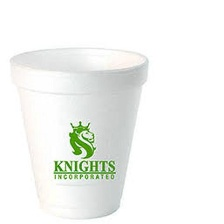paper_cup: (5, 40, 152, 224)
